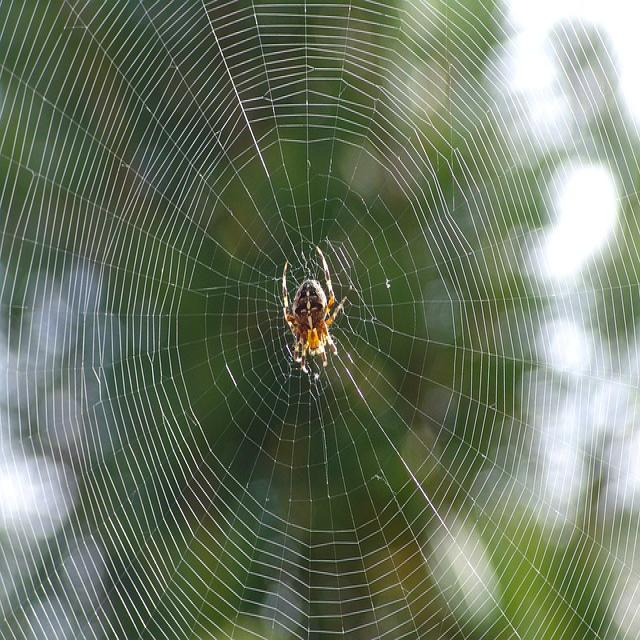spyder: (275, 265, 350, 396)
